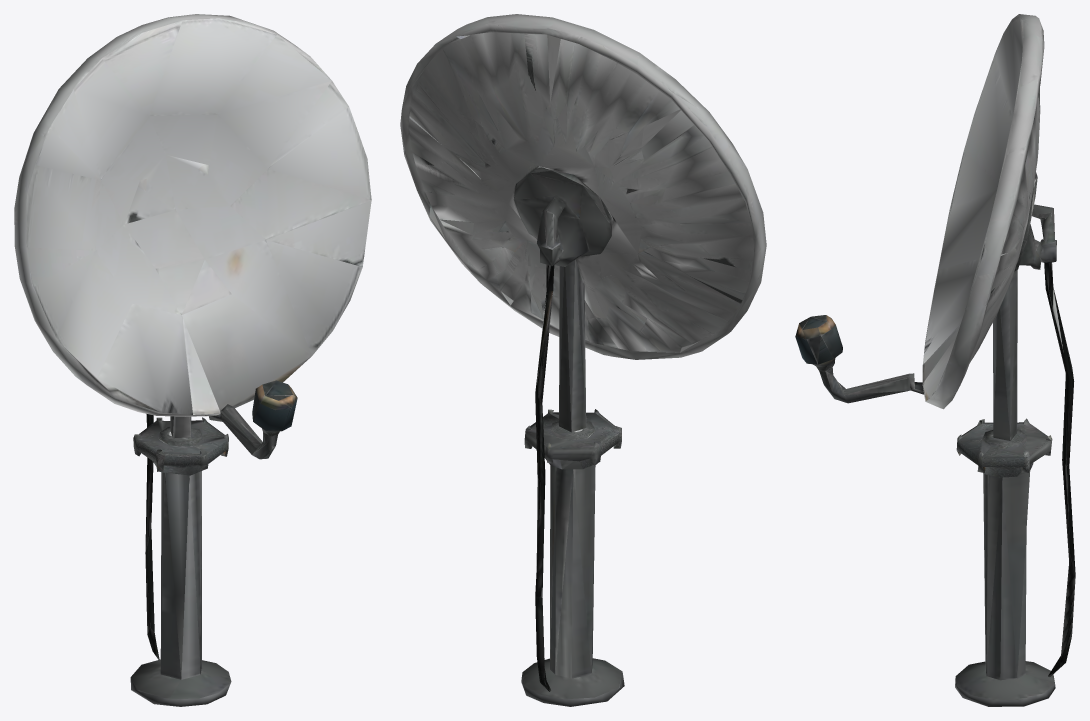
Rendered from fv_satellite.glb.
3 renders of one model, left to right at view 1: azimuth 30°, elevation 25°; view 2: azimuth 150°, elevation 25°; view 3: azimuth 270°, elevation 25°, orthographic. The views are drawn at different scales.
Visible parts, largest first — view 1: fv_satellite; view 2: fv_satellite; view 3: fv_satellite.
Boxes of the visible parts, left/top/right/bottom form: fv_satellite: left=14, top=14, right=371, bottom=706; fv_satellite: left=400, top=14, right=766, bottom=706; fv_satellite: left=795, top=14, right=1075, bottom=706.
Bounding box in the file's own units: 0.6656 × 1.2 × 0.4663.
Materials: 1 (1 with a texture image).
